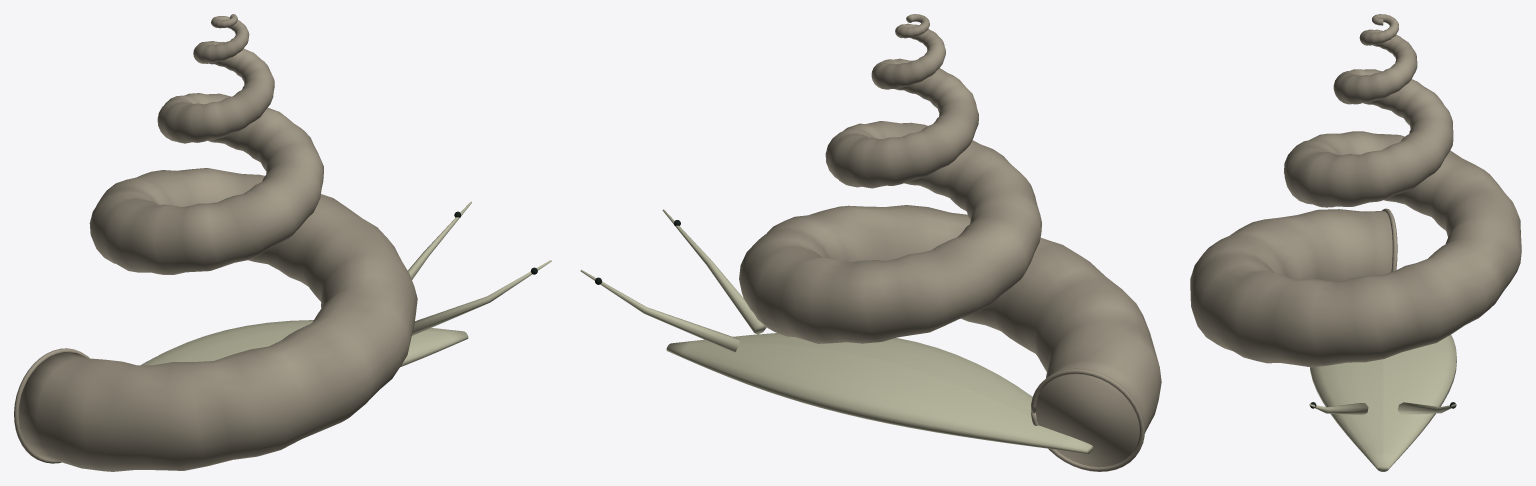
File: nassarius-desktop.glb
The picture shows the model from 3 angles, left to right: view 1: azimuth 30°, elevation 25°; view 2: azimuth 150°, elevation 25°; view 3: azimuth 270°, elevation 25°; orthographic projection. The views are drawn at different scales.
Parts seen in each view (by area): view 1: continuous-whorled-shell, muscular-foot, cephalic-tentacle, aperture-lip; view 2: continuous-whorled-shell, muscular-foot, cephalic-tentacle, aperture-lip; view 3: continuous-whorled-shell, muscular-foot, cephalic-tentacle, aperture-lip.
Part boxes in pixels (left/top/right/bottom): continuous-whorled-shell: left=18, top=14, right=417, bottom=471; muscular-foot: left=141, top=320, right=468, bottom=367; cephalic-tentacle: left=408, top=201, right=551, bottom=335; aperture-lip: left=14, top=348, right=89, bottom=463; continuous-whorled-shell: left=739, top=14, right=1161, bottom=467; muscular-foot: left=666, top=333, right=1093, bottom=453; cephalic-tentacle: left=580, top=209, right=766, bottom=352; aperture-lip: left=1030, top=368, right=1144, bottom=471; continuous-whorled-shell: left=1190, top=14, right=1521, bottom=367; muscular-foot: left=1310, top=335, right=1456, bottom=471; cephalic-tentacle: left=1309, top=402, right=1456, bottom=415; aperture-lip: left=1382, top=208, right=1397, bottom=272.
Size of the model in its own units: 0.6523 by 0.4992 by 0.4072.
